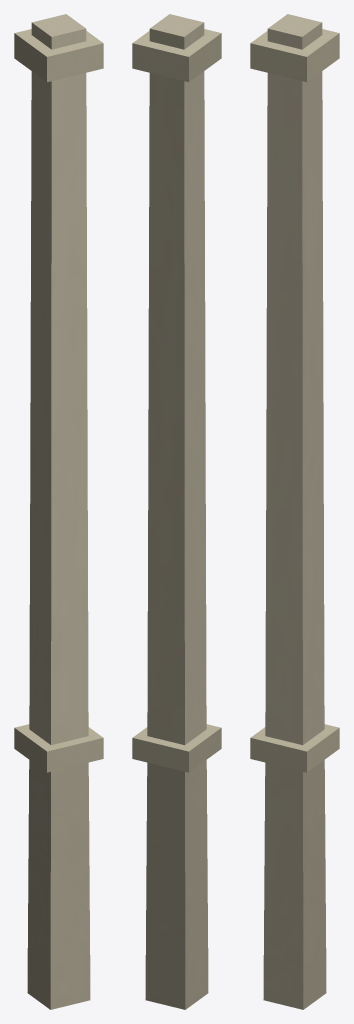
File: house_04_porch_post.glb
3 renders of one model, left to right at view 1: azimuth 30°, elevation 25°; view 2: azimuth 150°, elevation 25°; view 3: azimuth 330°, elevation 25°, orthographic.
Parts seen in each view (by area): view 1: outdoor_house_04_porch_post; view 2: outdoor_house_04_porch_post; view 3: outdoor_house_04_porch_post.
Boxes of the visible parts, x1,y1,x2,y2 form: outdoor_house_04_porch_post: (14, 14, 103, 1009); outdoor_house_04_porch_post: (132, 14, 221, 1009); outdoor_house_04_porch_post: (250, 14, 339, 1009).
Bounding box in the file's own units: 0.14 × 2.3 × 0.14.
1 material, 1 textured.
